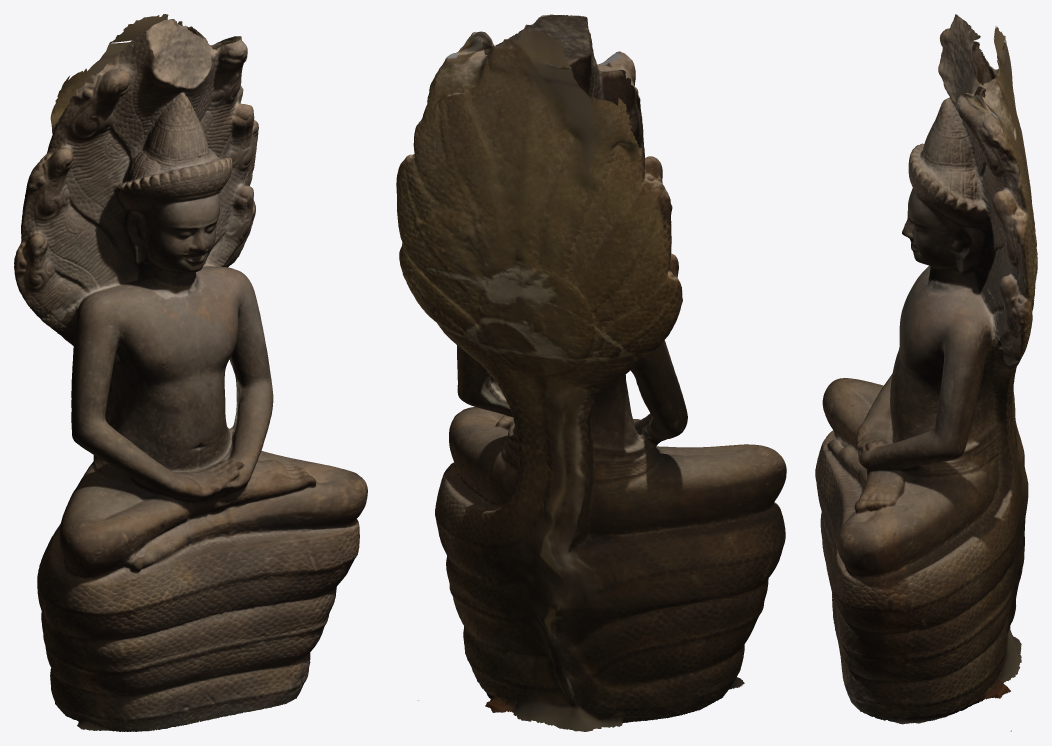
Rendered from buddha-naga.glb.
3 renders of one model, left to right at view 1: azimuth 30°, elevation 25°; view 2: azimuth 150°, elevation 25°; view 3: azimuth 270°, elevation 25°, orthographic. The views are drawn at different scales.
Parts seen in each view (by area): view 1: Object_2, Object_6, Object_5, Object_3, Object_4; view 2: Object_4, Object_3, Object_5, Object_2, Object_6; view 3: Object_4, Object_3, Object_6, Object_5, Object_2.
Part boxes in pixels (x1,y1,x2,y2): Object_2: (14, 21, 361, 659); Object_6: (27, 20, 359, 718); Object_5: (37, 138, 367, 731); Object_3: (14, 52, 264, 601); Object_4: (21, 14, 367, 568); Object_4: (418, 14, 671, 731); Object_3: (445, 39, 786, 625); Object_5: (396, 183, 785, 724); Object_2: (396, 25, 768, 499); Object_6: (435, 15, 672, 688); Object_4: (833, 26, 1033, 731); Object_3: (817, 74, 1018, 642); Object_6: (816, 14, 986, 724); Object_5: (815, 204, 1037, 640); Object_2: (830, 52, 1033, 643).
Bounding box in the file's own units: 17.68 × 35.93 × 11.06.
1 material, 1 textured.
